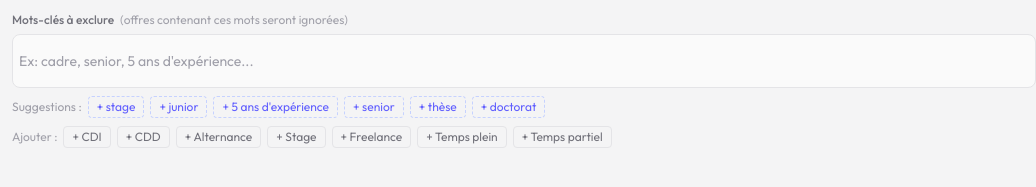
StepMotsClesExclus › blocks adding a keyword already present in the include list
This screenshot has width=1036, height=187.
Step 1. Type "data scientist" into the field → (524, 61), box [19,41,1029,81]
Then press Enter
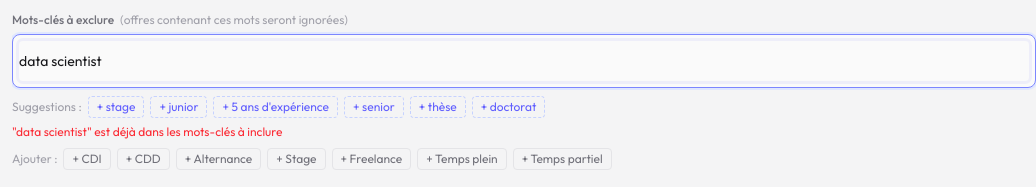
Check: the text "\"data scientist\" est déjà dans les mots-clés à inclure" is shown, box [12,124,282,139]
